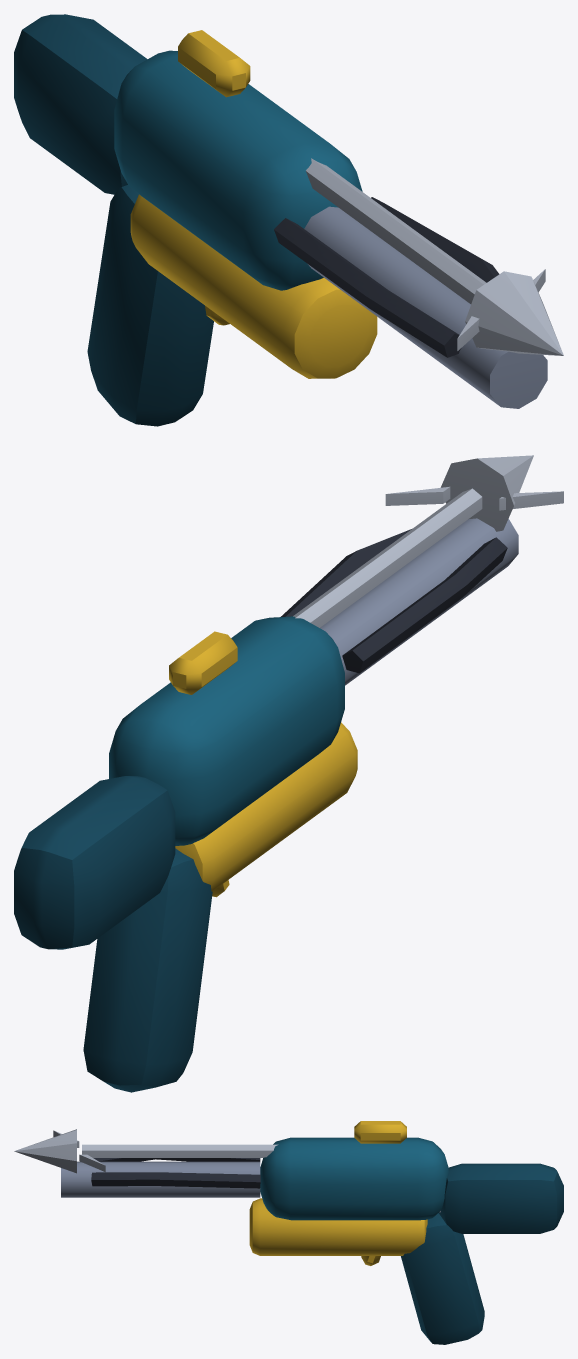
File: w_n_harpoon.glb
The picture shows the model from 3 angles, top to bottom: view 1: azimuth 30°, elevation 25°; view 2: azimuth 150°, elevation 25°; view 3: azimuth 270°, elevation 25°; orthographic projection. The views are drawn at different scales.
Parts seen in each view (by area): view 1: body; view 2: body; view 3: body.
Boxes of the visible parts, x1,y1,x2,y2 form: body: (14,14,563,426); body: (14,455,563,1092); body: (14,1121,563,1344).
Size of the model in its own units: 0.152 by 0.4384 by 0.9975.
